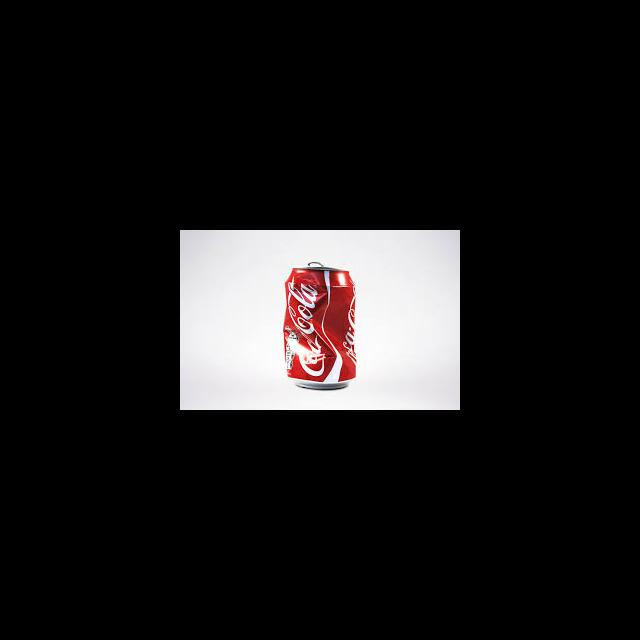metal: (283, 266, 355, 390)
